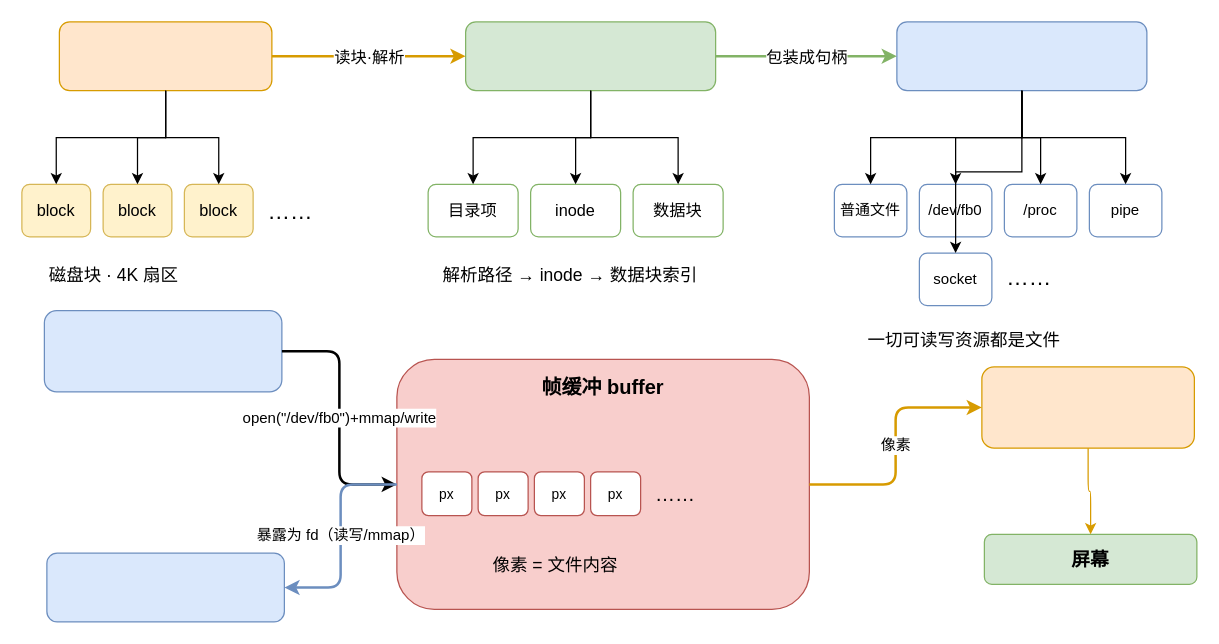
Image size: 1219x644. Some labels were removed from this diagram. Here are the shapes that lost their labels. From the top down, the centre of each, then its label:
At pixel 165 56: "磁盘".
At pixel 590 56: "文件系统 ext4".
At pixel 1021 56: "VFS 文件句柄".
At pixel 162 350: "Nano-X 用户程序".
At pixel 1087 407: "DisplayDevice".
At pixel 165 587: "VFS /dev/fb0 设备节点".
